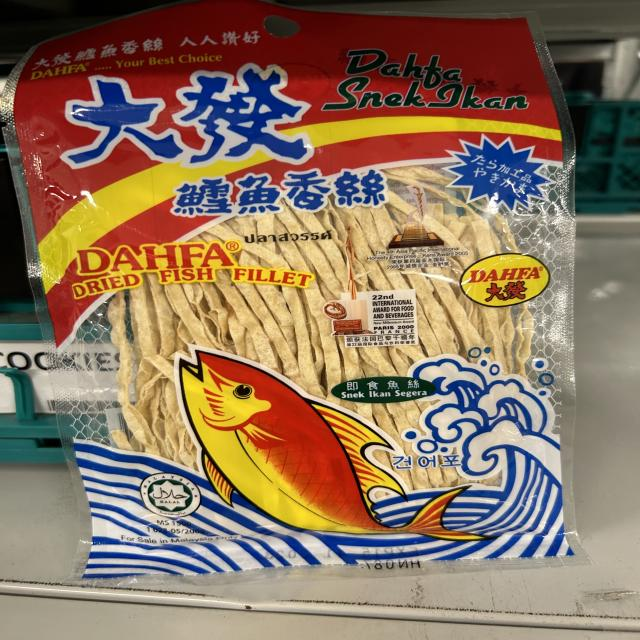object_name: (21, 38, 569, 566)
